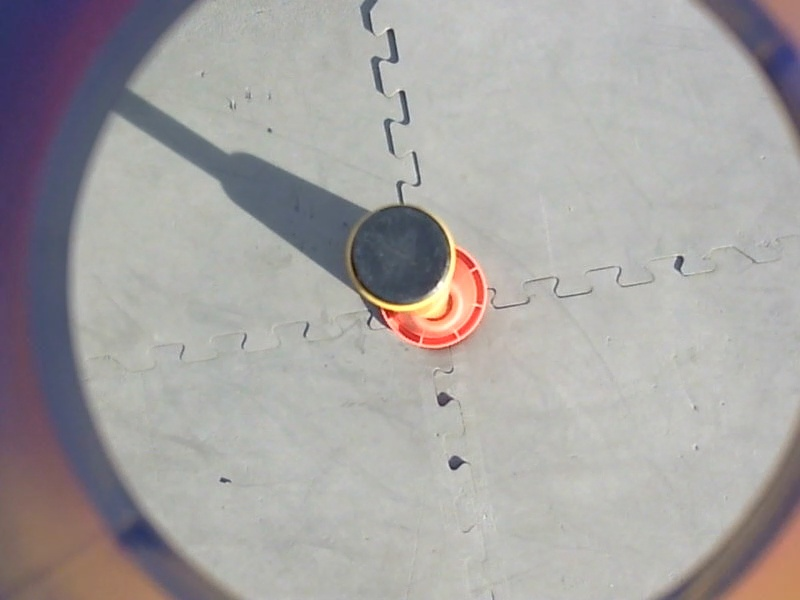tip: (340, 197, 462, 318)
